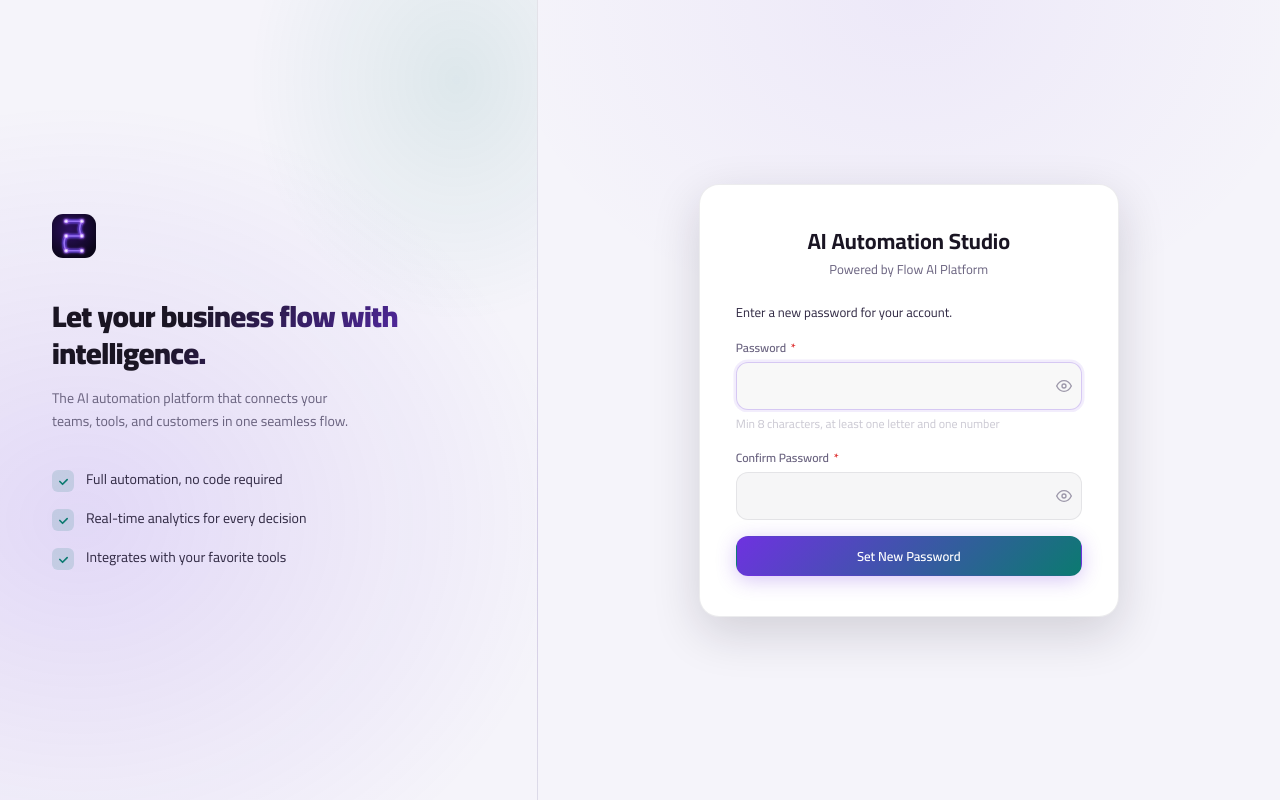
Scenario: AuthPage — password reset tab (URL token flow) › on reset success, shows a success banner and a back-to-sign-in button
The width and height of the screenshot is (1280, 800).
Step 1. Type "Str0ngPass!" into the password field labelled "Password *" → {"x": 909, "y": 386}, box x1=736 y1=362 x2=1082 y2=410
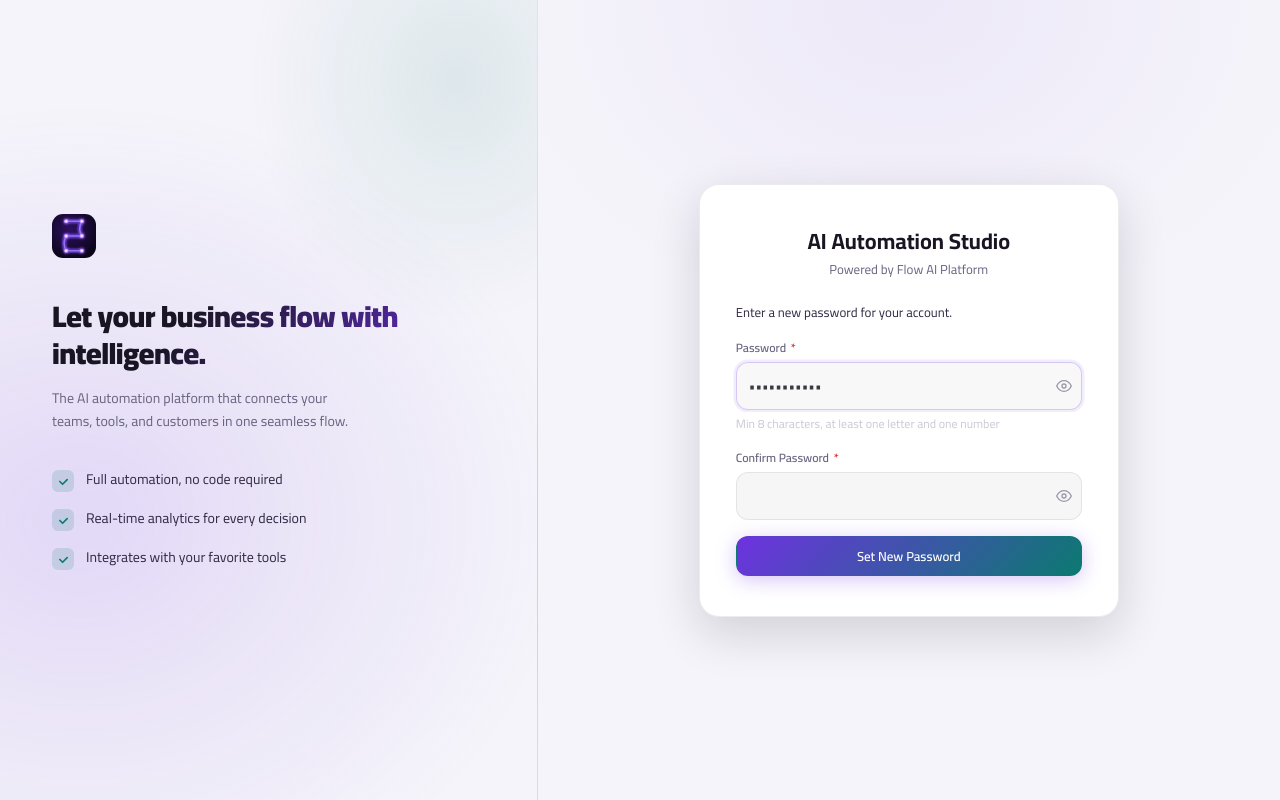
Step 2. Type "Str0ngPass!" into the password field labelled "Confirm Password *" → {"x": 909, "y": 496}, box x1=736 y1=472 x2=1082 y2=520
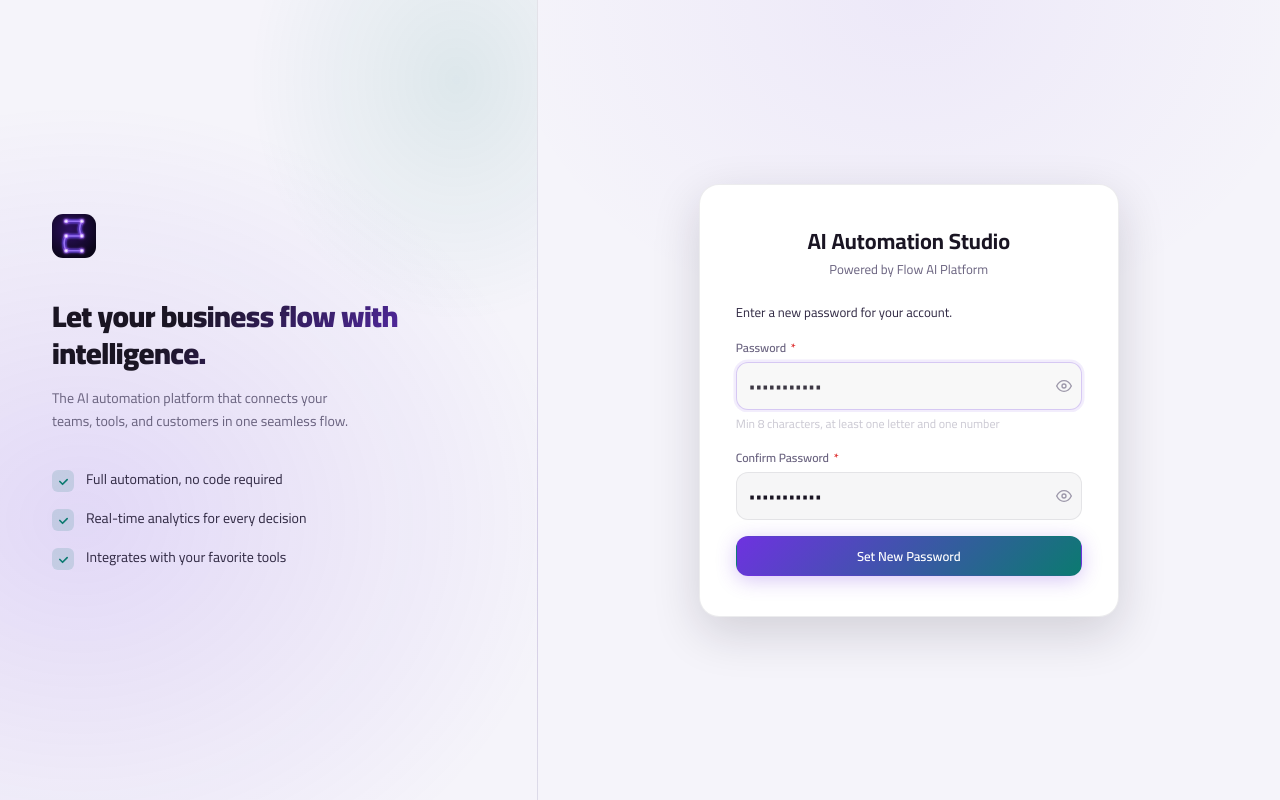
Step 3. Click the button "Set New Password" → {"x": 909, "y": 556}, box x1=736 y1=536 x2=1082 y2=576
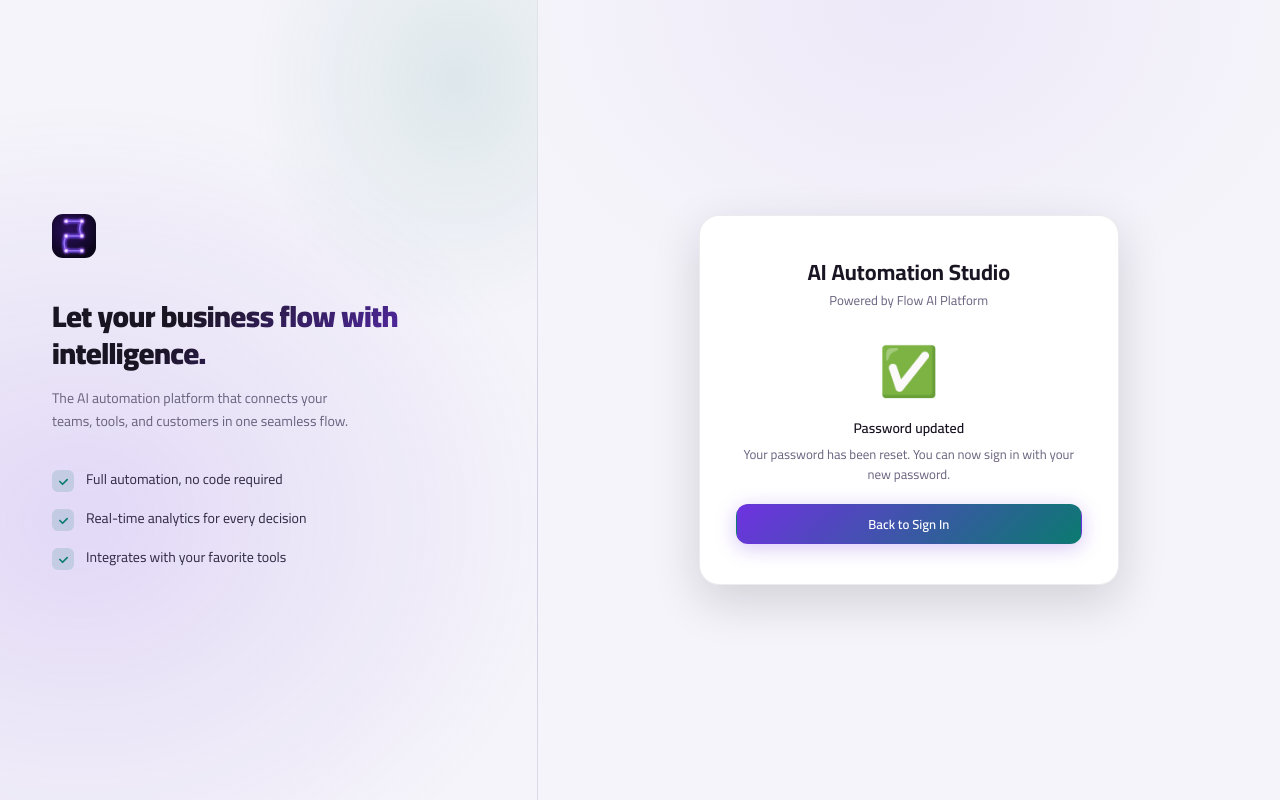
Now the text "Password updated" is shown, box x1=853 y1=415 x2=964 y2=441
Now the button "Back to Sign In" is shown, box x1=736 y1=504 x2=1082 y2=544
